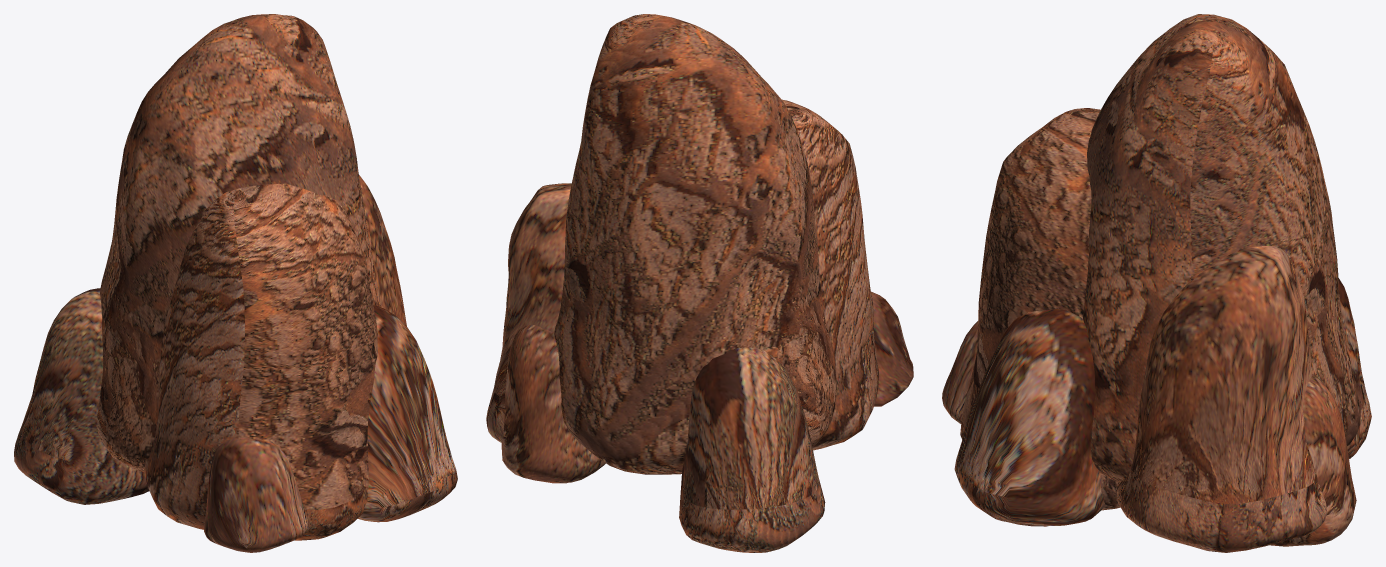
File: mars_rock.glb
3 renders of one model, left to right at view 1: azimuth 30°, elevation 25°; view 2: azimuth 150°, elevation 25°; view 3: azimuth 270°, elevation 25°, orthographic. The views are drawn at different scales.
Visible parts, largest first — view 1: Low; view 2: Low; view 3: Low.
Boxes of the visible parts, x1=… form: Low: x1=14, y1=14, x2=457, y2=552; Low: x1=486, y1=14, x2=913, y2=552; Low: x1=942, y1=14, x2=1371, y2=552.
Size of the model in its own units: 5.57 by 7.29 by 5.65.
1 material, 1 textured.
